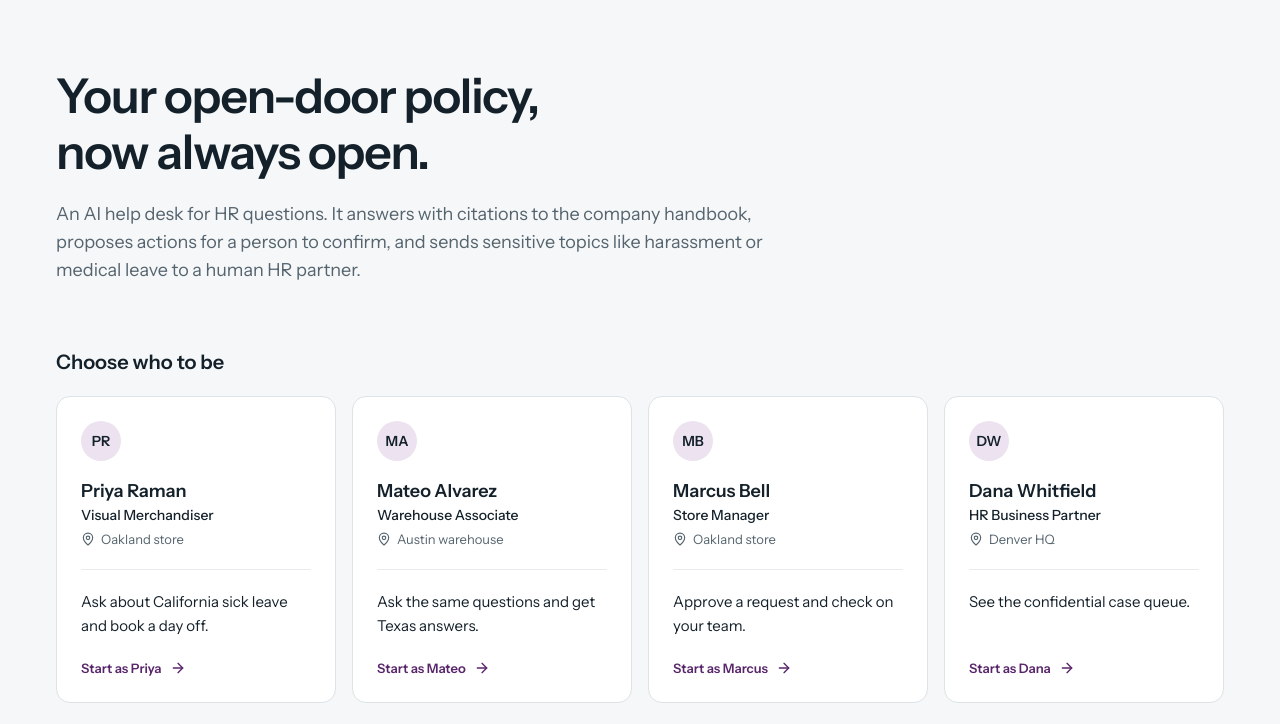
Test: the landing page › re-enables the cards on failure and shows an error whose Retry starts the same persona
This screenshot has width=1280, height=724.
Click the button that starts with "Mateo Alvarez" at (492, 550), box [352,396,632,703]
(page scrolled)
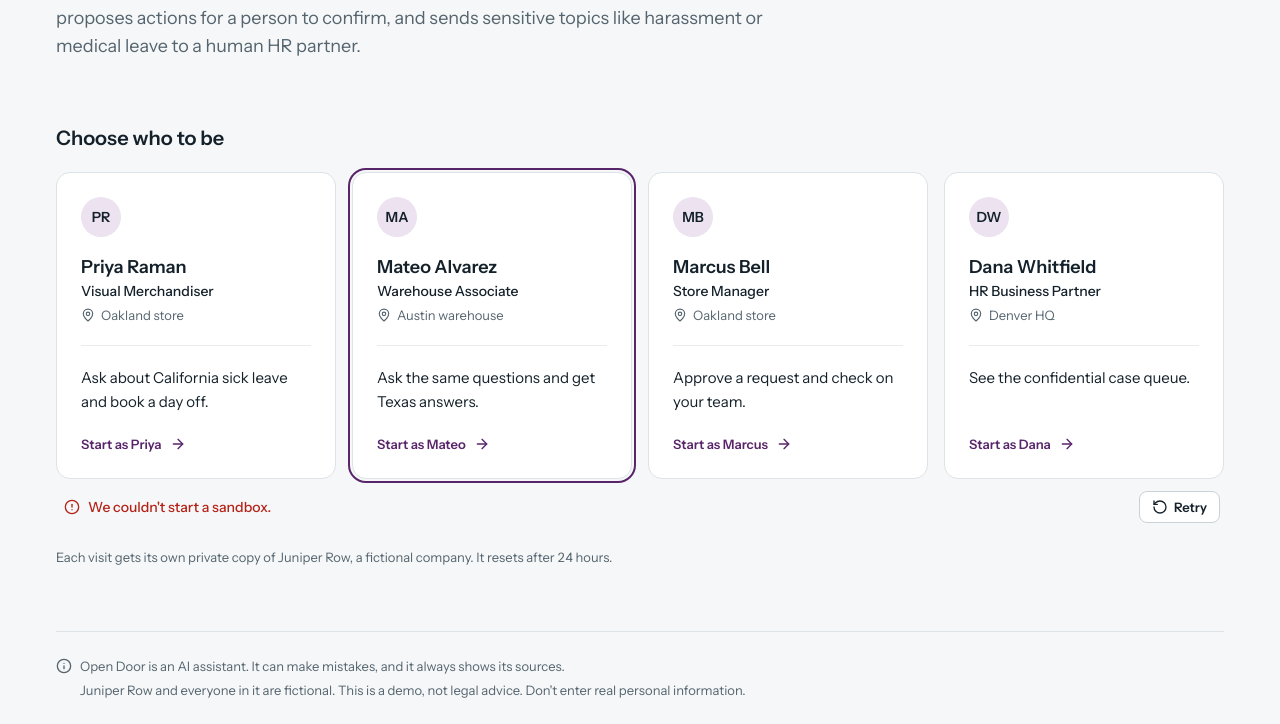
Expected: the button that starts with "Priya Raman" is enabled, [56,172,336,479]
Result: the message shows "We couldn't start a sandbox." at [88,498,271,516]
Click the button "Retry" at (1180, 507), box [1139,491,1220,523]
(page scrolled)
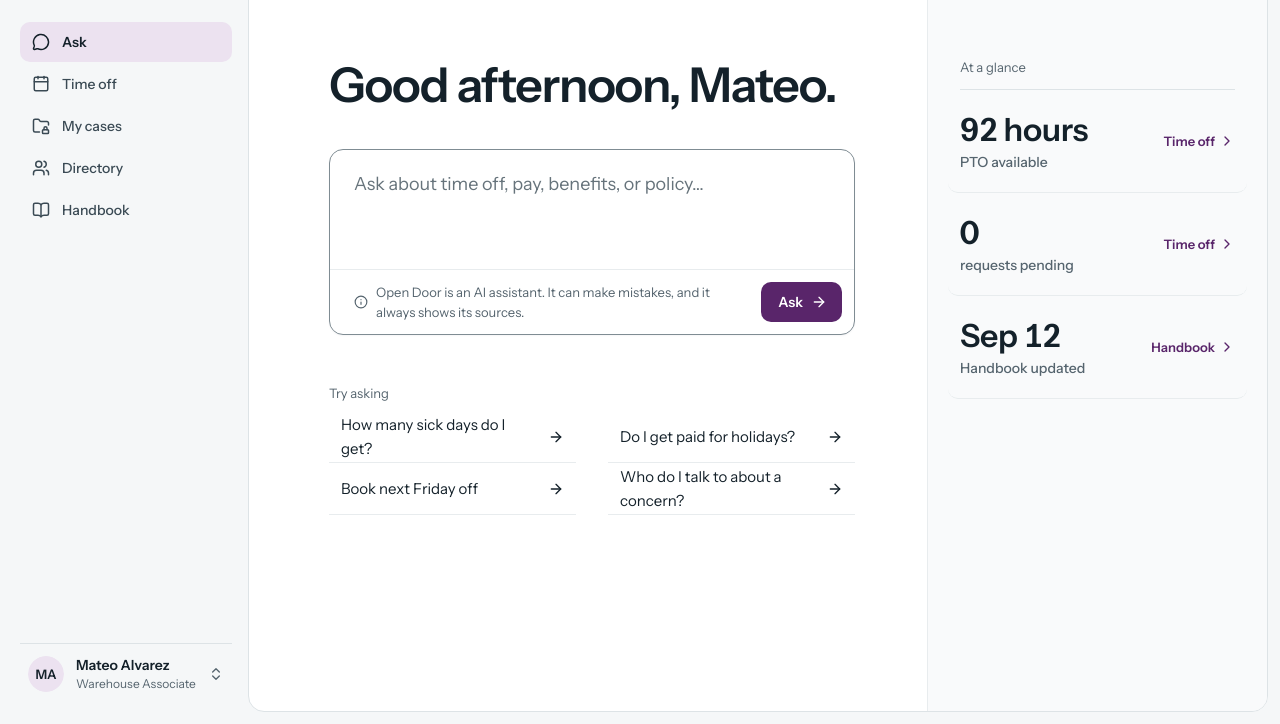
Result: the heading "Good afternoon, Mateo." is shown at [329,57,855,113]
